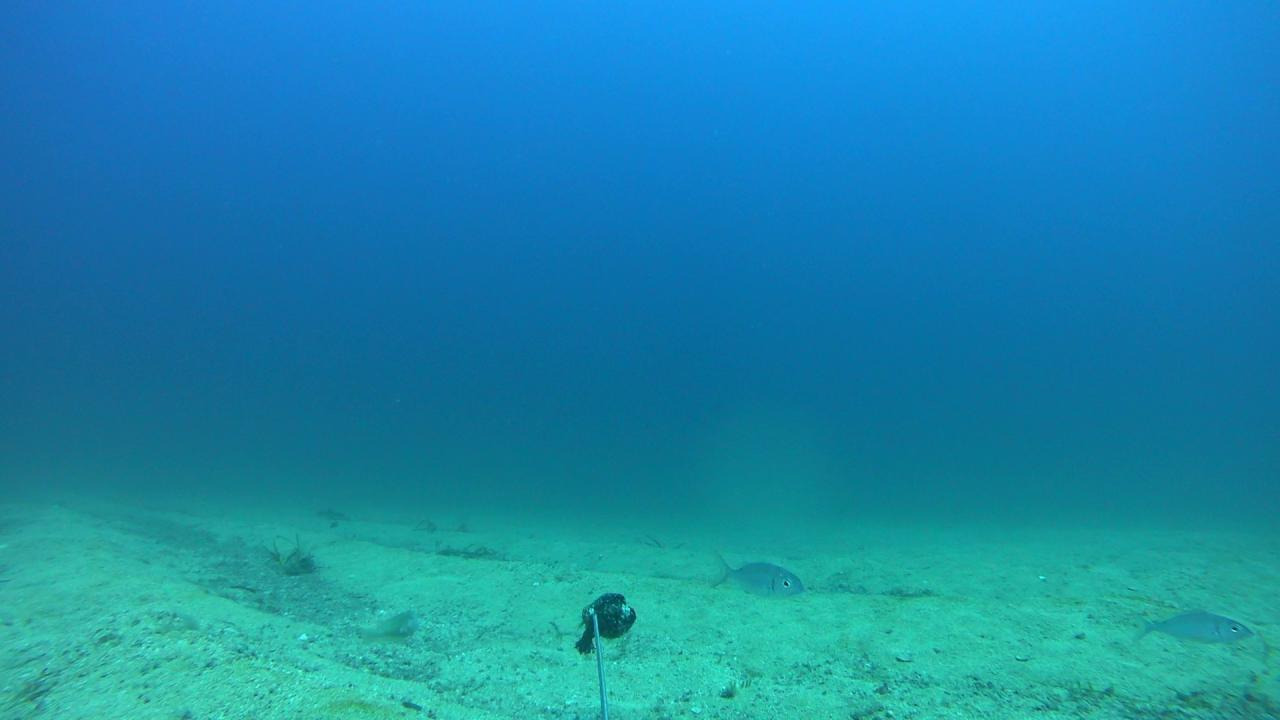pagellus: (1125, 608, 1258, 646), (709, 550, 804, 599)
raor: (359, 609, 418, 644)
